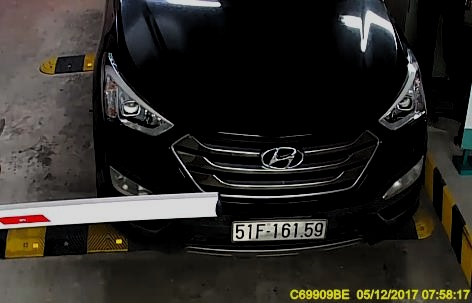plate: (230, 215, 328, 245)
